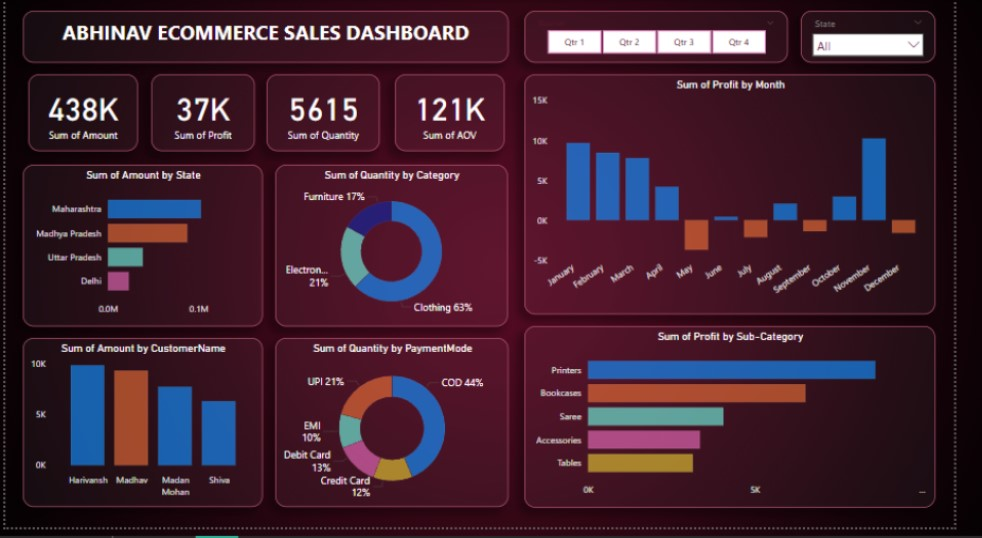

The dashboard page shown, as its layout file describes it:
{"tool":"powerbi","page":{"name":"Page 1","canvas":[1280,720],"ordinal":0},"visuals":[{"type":"textbox","box":[23.6,15.2,656,70.8],"z":0},{"type":"columnChart","fields":{"Category":["Orders.Order Date.Variation.Date Hierarchy.Month"],"Y":["Details.Profit"]},"box":[700.9,101.4,555.4,327.7],"z":1000},{"type":"barChart","fields":{"Category":["Details.Sub-Category"],"Y":["Details.Profit"]},"box":[701.6,445.2,554.8,247.9],"z":2000},{"type":"donutChart","fields":{"Category":["Details.Category"],"Y":["Details.Quantity"]},"box":[364.3,224.3,313.7,220.9],"z":3000},{"type":"donutChart","fields":{"Y":["Details.Quantity"],"Series":["Details.PaymentMode"]},"box":[364.3,462.1,315.4,231],"z":4000},{"type":"card","fields":{"Values":["Details.Amount"]},"box":[30.4,101.2,148.4,104.6],"z":5000},{"type":"card","fields":{"Values":["Details.Profit"]},"box":[197.3,101.2,140,104.6],"z":6000},{"type":"card","fields":{"Values":["Details.AOV"]},"box":[526.2,101.2,148.4,104.6],"z":7000},{"type":"card","fields":{"Values":["Details.Quantity"]},"box":[352.5,101.2,153.5,104.6],"z":8000},{"type":"barChart","fields":{"Category":["Orders.State"],"Y":["Details.Amount"]},"box":[23.6,224.3,323.8,220.9],"z":9000},{"type":"columnChart","fields":{"Category":["Orders.CustomerName"],"Y":["Details.Amount"]},"box":[23.6,462.1,323.8,231],"z":10000},{"type":"slicer","fields":{"Values":["Orders.Order Date.Variation.Date Hierarchy.Quarter"]},"box":[700.9,14.7,355.6,70.5],"z":11000},{"type":"slicer","fields":{"Values":["Orders.State"]},"box":[1074.1,14.7,182.2,70.5],"z":12000}]}

Visuals, with their boxes in screenshot pixels (x1, y1, x2, y2), scaled from the page's 1280x720 canvas onto the 982x538 screenshot:
textbox: detection(18, 11, 521, 64)
columnChart - Orders.Order Date.Variation.Date Hierarchy.Month x Details.Profit: detection(538, 76, 964, 321)
barChart - Details.Sub-Category x Details.Profit: detection(538, 333, 964, 518)
donutChart - Details.Category x Details.Quantity: detection(279, 168, 520, 333)
donutChart - Details.Quantity x Details.PaymentMode: detection(279, 345, 521, 518)
card - Details.Amount: detection(23, 76, 137, 154)
card - Details.Profit: detection(151, 76, 259, 154)
card - Details.AOV: detection(404, 76, 518, 154)
card - Details.Quantity: detection(270, 76, 388, 154)
barChart - Orders.State x Details.Amount: detection(18, 168, 267, 333)
columnChart - Orders.CustomerName x Details.Amount: detection(18, 345, 267, 518)
slicer - Orders.Order Date.Variation.Date Hierarchy.Quarter: detection(538, 11, 811, 64)
slicer - Orders.State: detection(824, 11, 964, 64)
